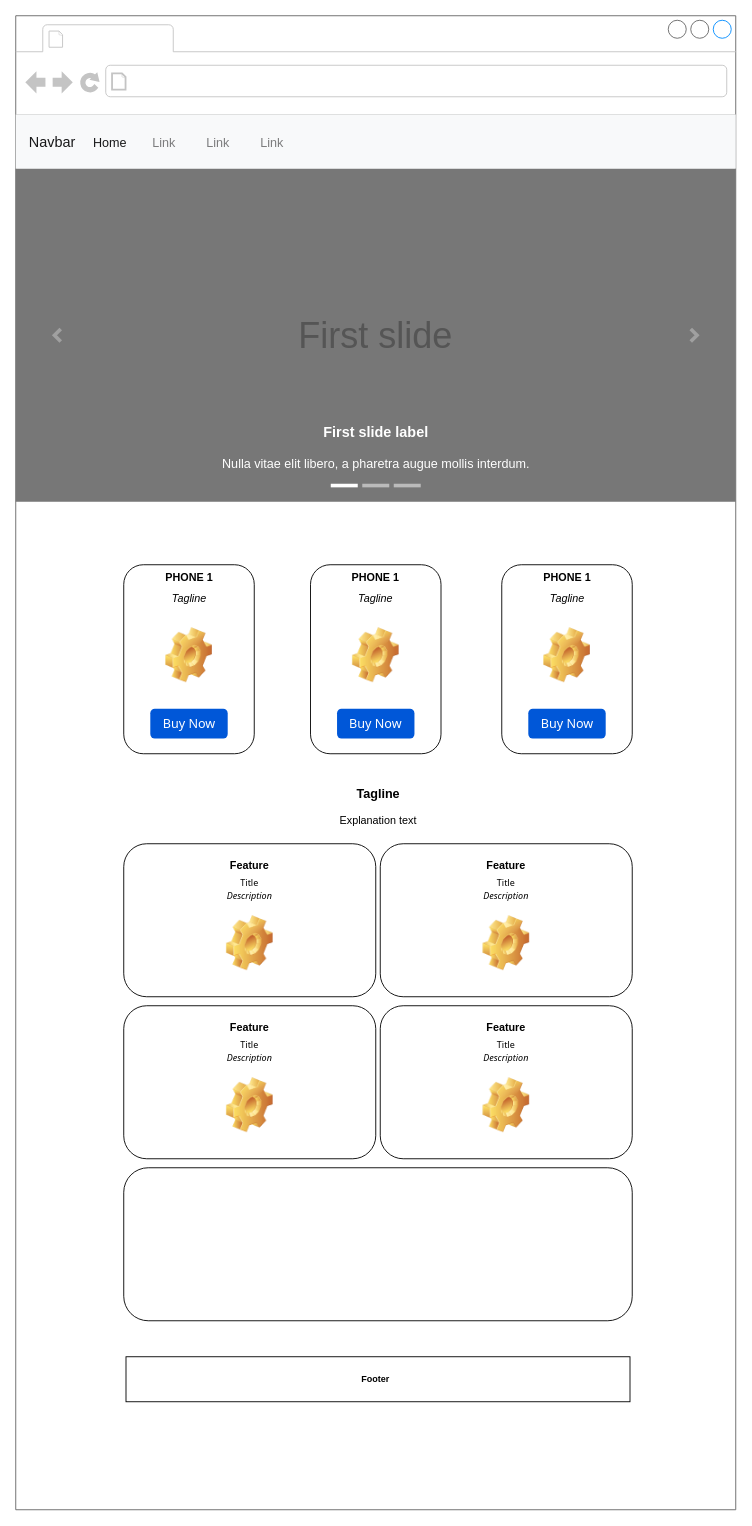
This 752x1526 diagram has some shape labels left out. The shapes that lost their labels are listed below. From the top down, each one's centre as x and y in pixels, then its label:
At (x=119, y=38): "Page 1".
At (x=245, y=81): "https://www.draw.io".
At (x=377, y=1244): "Buy now Call to action on flagship phone".
